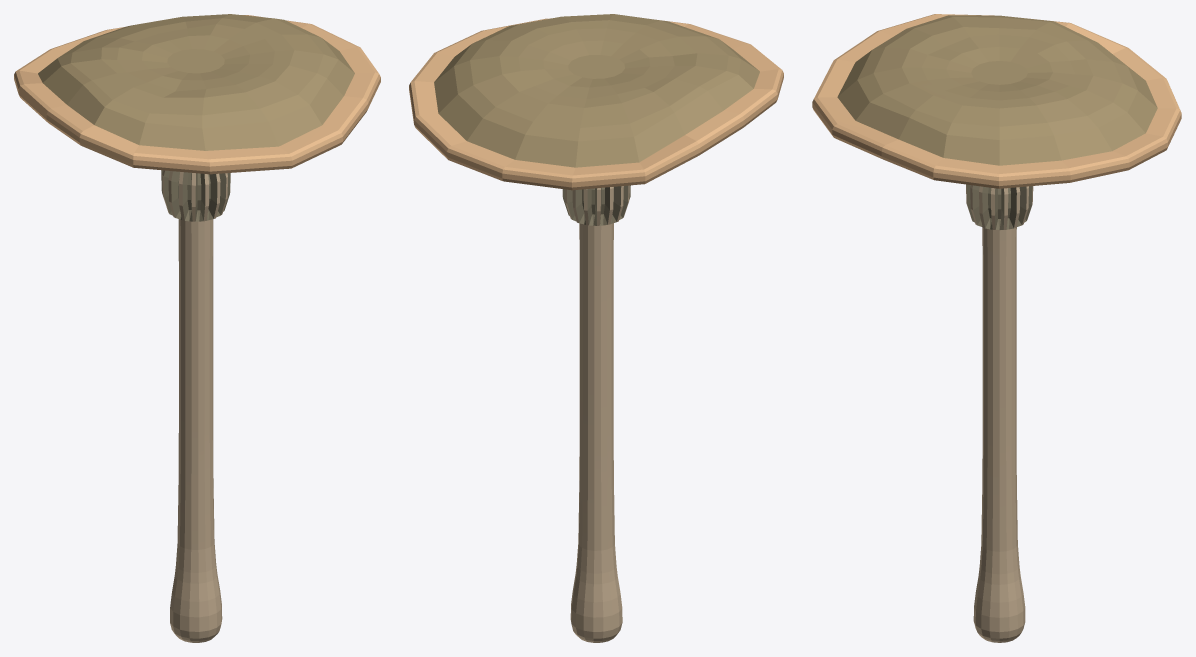
Rendered from mushroom 5.fbx.
3 views of the same model, side by side, from view 1: azimuth 30°, elevation 25°; view 2: azimuth 150°, elevation 25°; view 3: azimuth 270°, elevation 25° (orthographic). The views are drawn at different scales.
Visible parts, largest first — view 1: paddo_1_fin; view 2: paddo_1_fin; view 3: paddo_1_fin.
Boxes of the visible parts, bbox=[...] form: paddo_1_fin: bbox=[14, 14, 380, 642]; paddo_1_fin: bbox=[409, 14, 783, 642]; paddo_1_fin: bbox=[812, 14, 1181, 642].
Bounding box in the file's own units: 1703 × 3006 × 1764.
